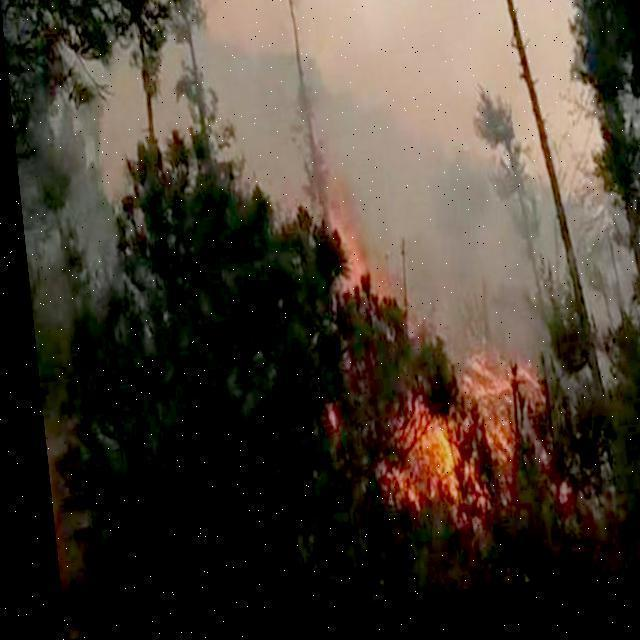Fire: (304, 192, 532, 554)
